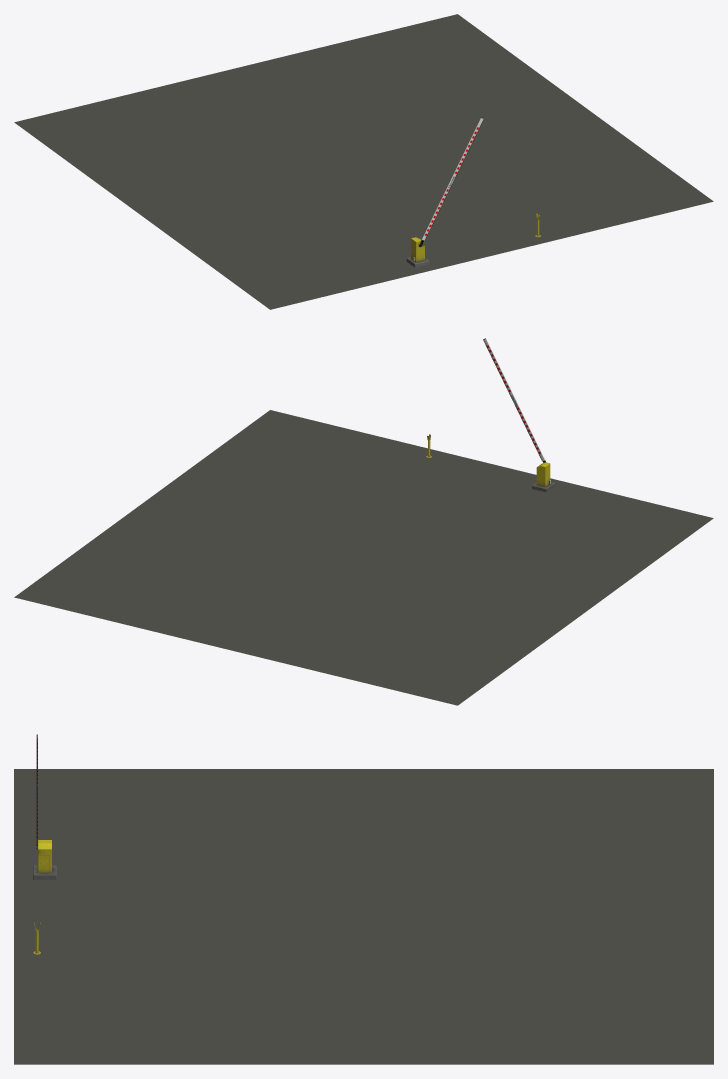
Rendered from stage2_start_floor_obejcts.obj.
3 renders of one model, top to bottom at view 1: azimuth 30°, elevation 25°; view 2: azimuth 150°, elevation 25°; view 3: azimuth 270°, elevation 25°, orthographic. The views are drawn at different scales.
Bounding box in the file's own units: 100 × 28.54 × 100.
